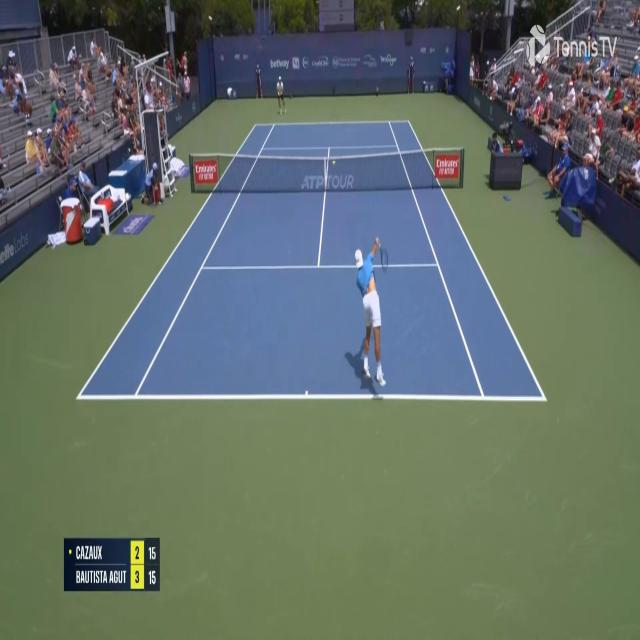tennis-player: (344, 236, 389, 390), (275, 76, 286, 114)
